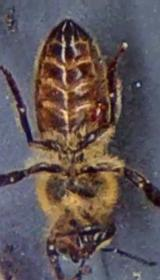varroa_mite: (84, 99, 109, 124)
